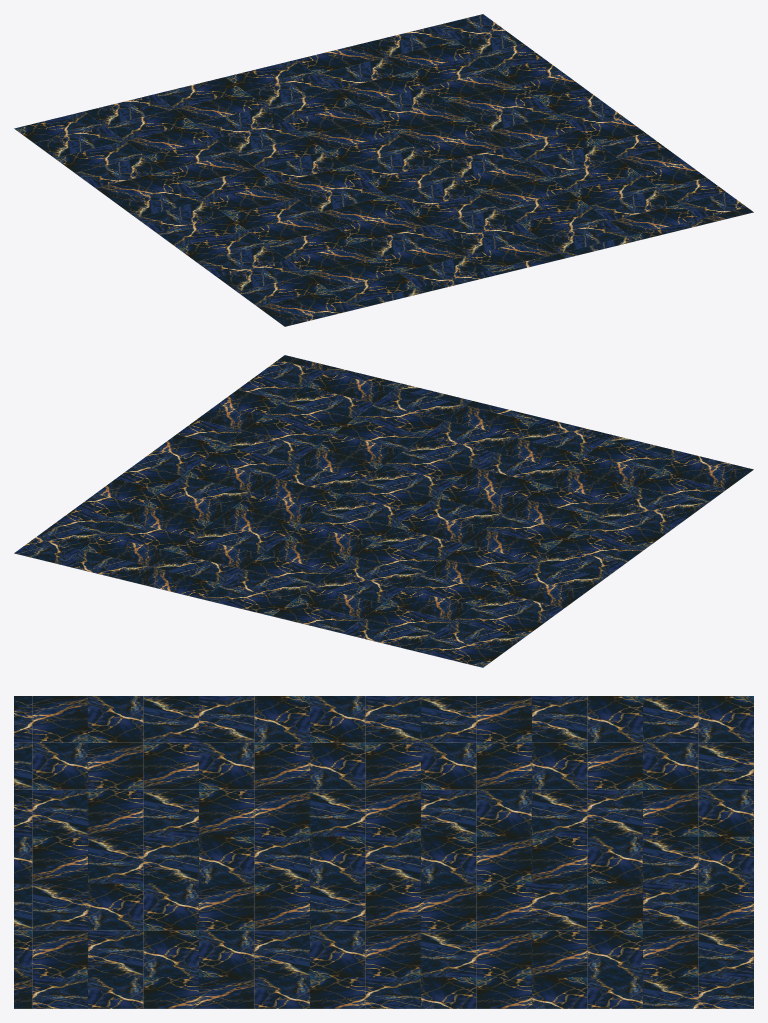
File: royal-60x120.glb
3 renders of one model, top to bottom at view 1: azimuth 30°, elevation 25°; view 2: azimuth 150°, elevation 25°; view 3: azimuth 270°, elevation 25°, orthographic. The views are drawn at different scales.
Parts seen in each view (by area): view 1: Royal; view 2: Royal; view 3: Royal.
Boxes of the visible parts, x1,y1,x2,y2 form: Royal: [14, 14, 753, 326]; Royal: [14, 355, 753, 667]; Royal: [14, 696, 753, 1008].
Bounding box in the file's own units: 8 × 0.003 × 8.
Materials: 2 (1 with a texture image).
